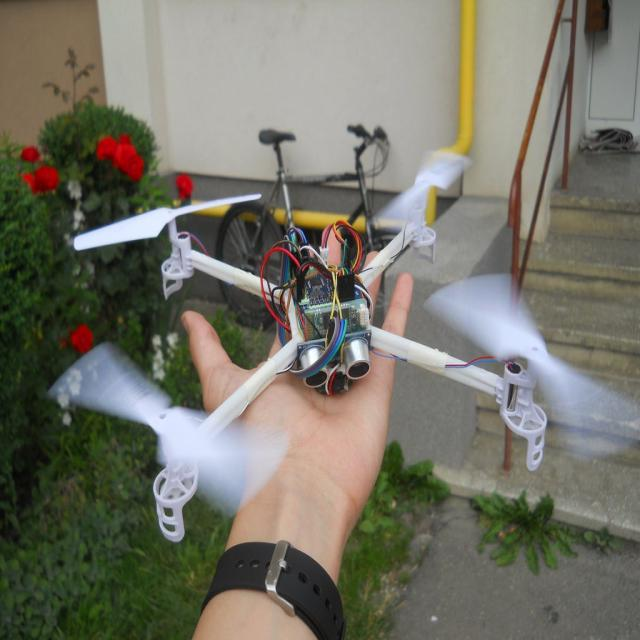drone: (50, 130, 598, 538)
